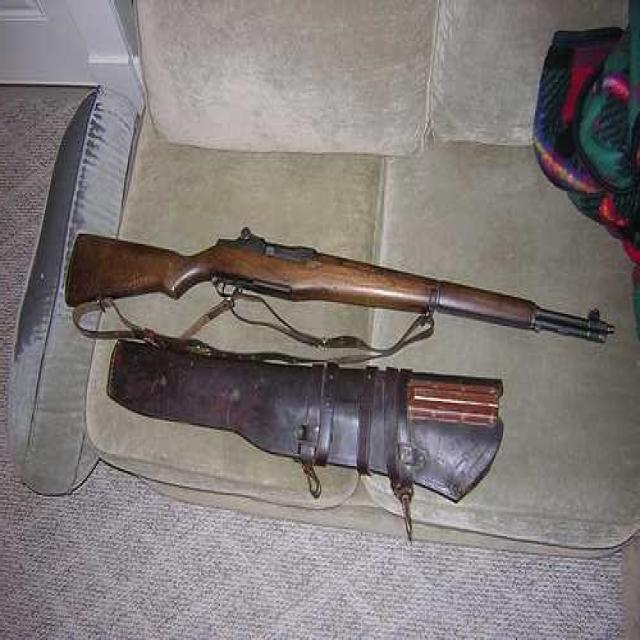heavyweapon: (64, 133, 612, 401)
